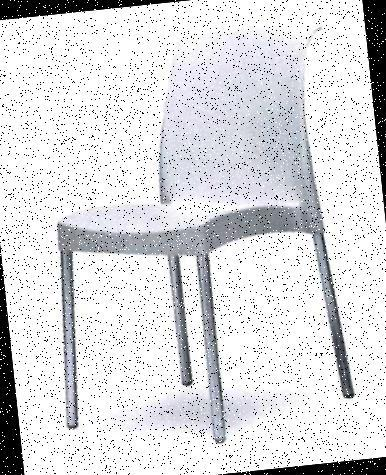Silla: (23, 26, 365, 459)
